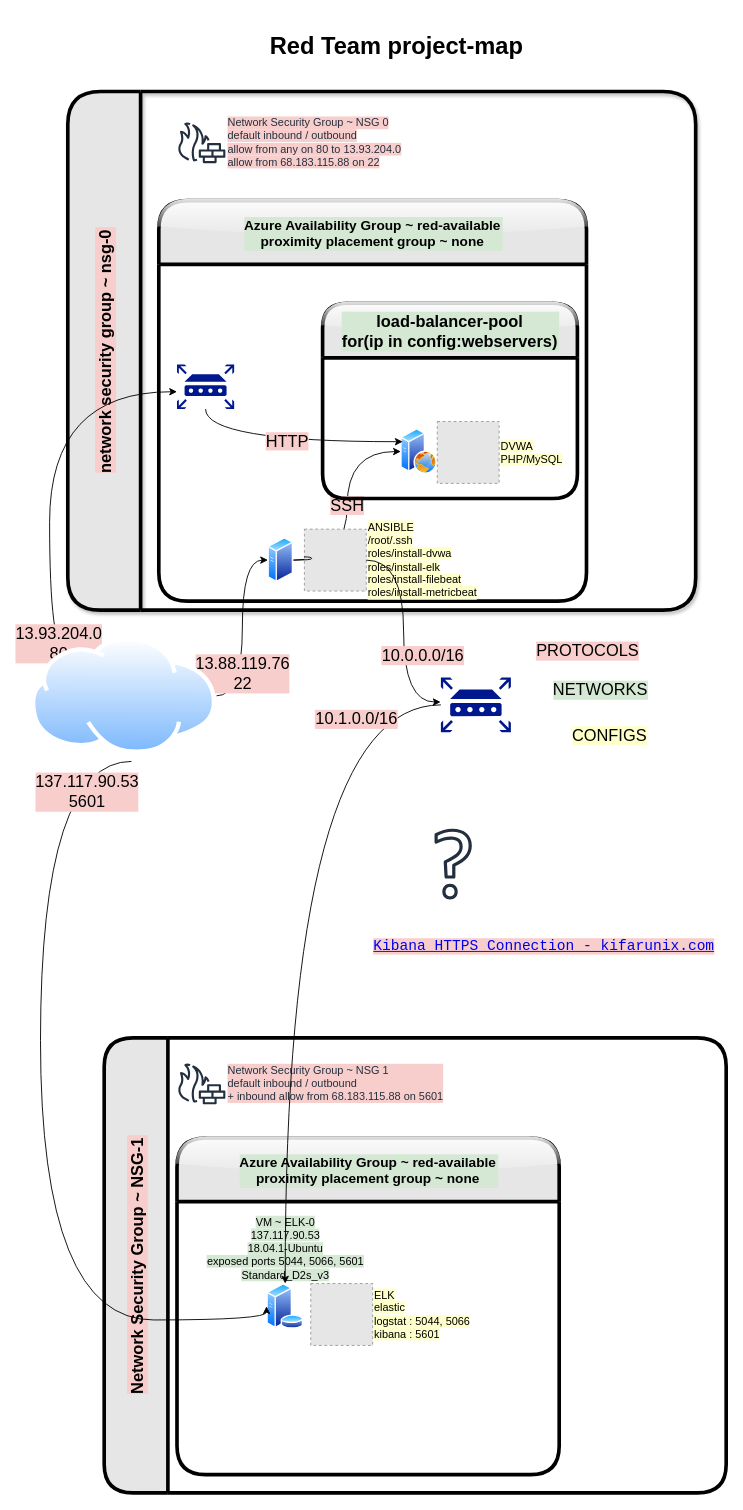
This 743x1510 diagram has some shape labels left out. Grey dashed boxes stand in for pictures. The centre of each missing label's shape, as x and y in pixels:
LOAD BALANCER 13.93.204.0 5sec / 2fails: point 205,386
NETWORK BRIDGE: point 475,704
save shell history on destroy: point 452,863
VM ~ JUMP 13.88.119.76 18.04.1-Ubuntu Standard_B1s: point 280,559
VM ~ WEB-0 13.93.204.0 18.04.1-Ubuntu filebeat -> 5066 metricbeat: -> 5601: point 418,451
